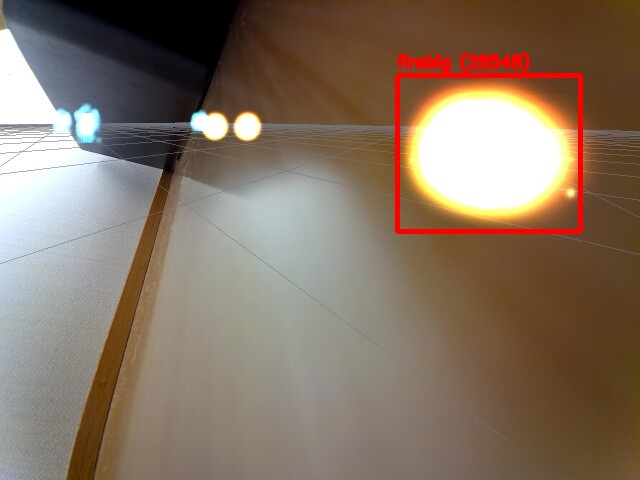firebig: (397, 75, 580, 231)
